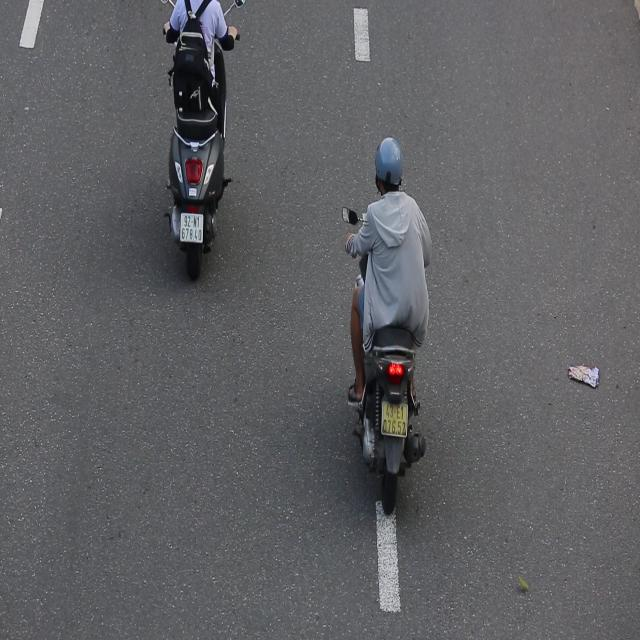motorbike: (340, 129, 432, 525)
